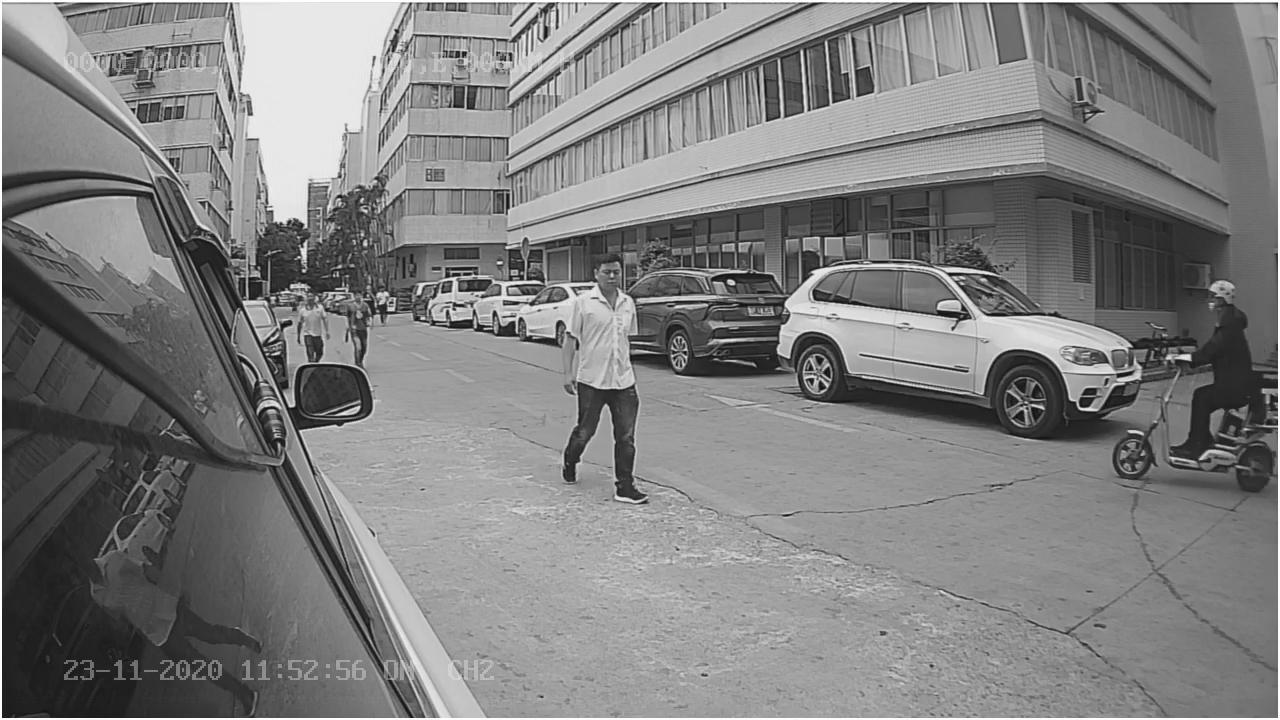person: (561, 253, 649, 501)
